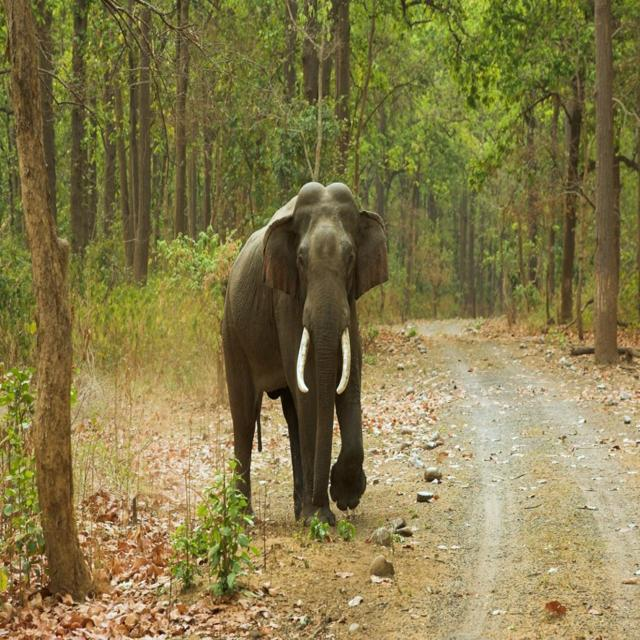Elephant: (185, 160, 424, 548)
